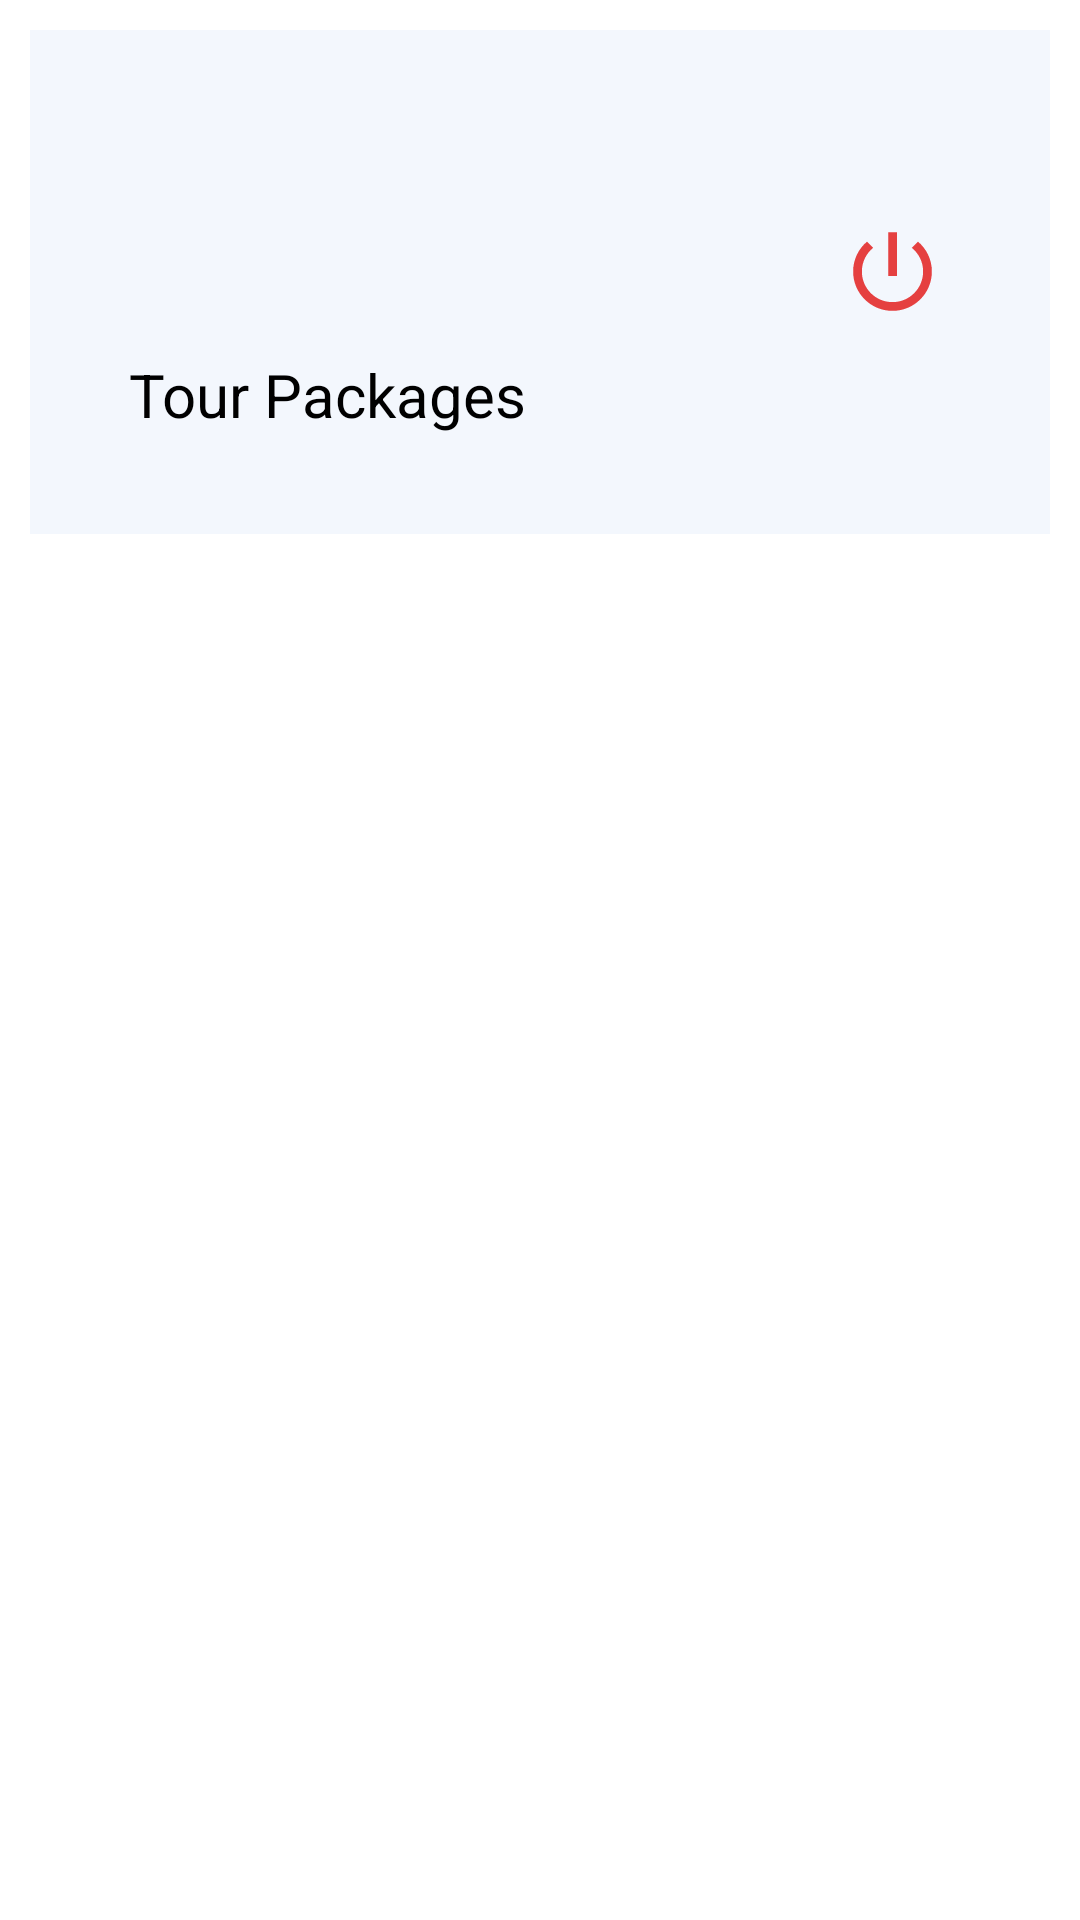

Locate icon controls on the screen. Image size 1080 x 1920, boxes as (x1, y1, x2, y2).
power settings: (853, 232, 932, 311)
